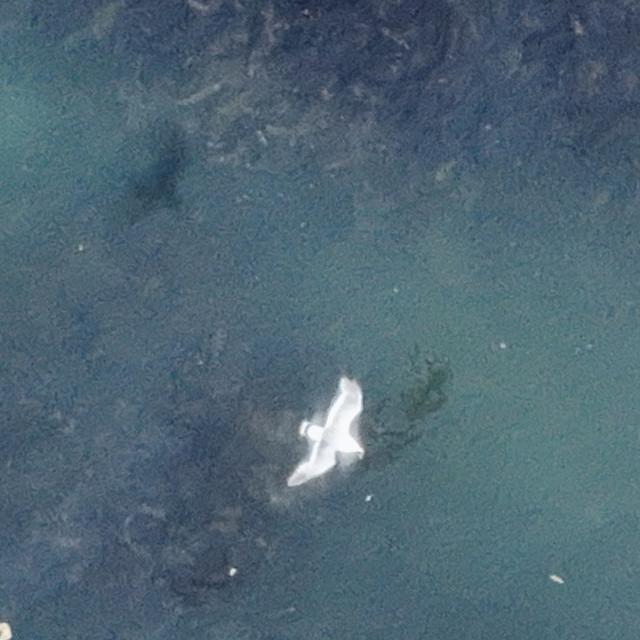F: (299, 392, 367, 480)
